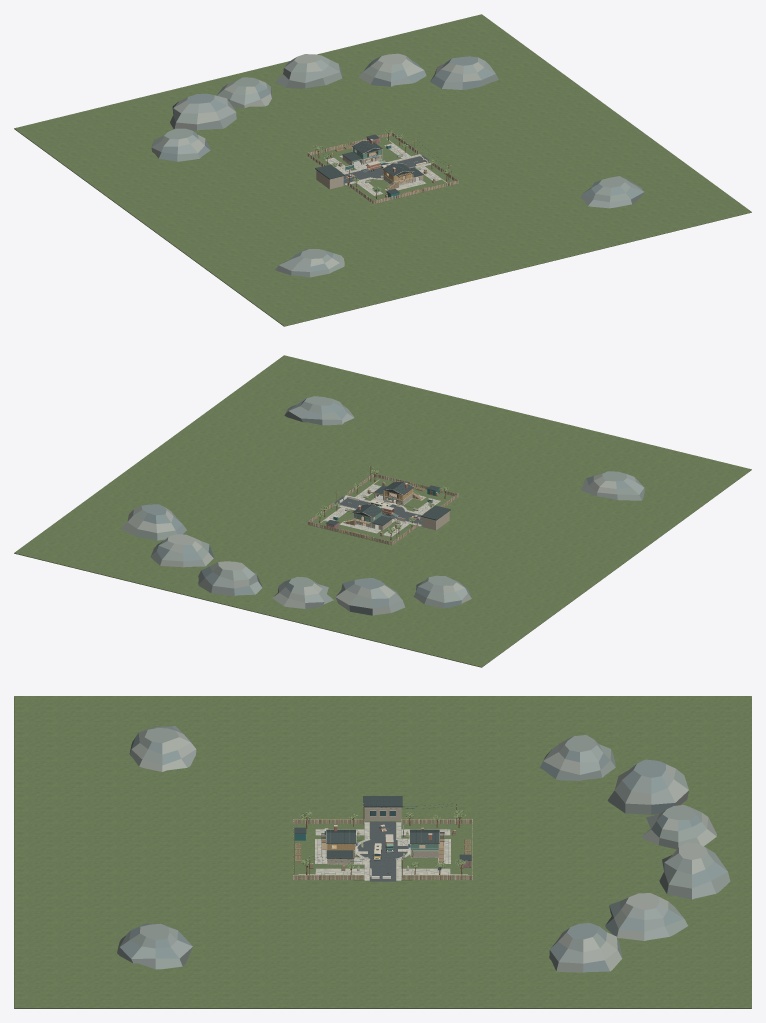
File: sunward-v2.5.glb
3 views of the same model, one above another, from view 1: azimuth 30°, elevation 25°; view 2: azimuth 150°, elevation 25°; view 3: azimuth 270°, elevation 25° (orthographic). The views are drawn at different scales.
Visible parts, largest first — view 1: 40_ContextScenery__V2_Ground_Moss, 62_V2_Context__V2_Distant_Cliff_0, 00_Ground__V2_Ground_Moss, 61_V2_Architecture__SW2_Arch_Limestone_01, 31_Boundary__wood_light, 00_Ground__V2_Road; view 2: 40_ContextScenery__V2_Ground_Moss, 62_V2_Context__V2_Distant_Cliff_0, 00_Ground__V2_Ground_Moss, 61_V2_Architecture__SW2_Arch_Limestone_01, 31_Boundary__wood_light; view 3: 40_ContextScenery__V2_Ground_Moss, 62_V2_Context__V2_Distant_Cliff_0, 00_Ground__V2_Ground_Moss, 61_V2_Architecture__SW2_Arch_Limestone_01, 00_Ground__V2_Road, 31_Boundary__wood_light, 60_V2_Foliage__V2_Leaf_DeepOlive, 31_Boundary__chalk.
Boxes of the visible parts, bbox=[...] form: 40_ContextScenery__V2_Ground_Moss: bbox=[14, 14, 751, 326]; 62_V2_Context__V2_Distant_Cliff_0: bbox=[151, 53, 644, 277]; 00_Ground__V2_Ground_Moss: bbox=[312, 136, 455, 203]; 61_V2_Architecture__SW2_Arch_Limestone_01: bbox=[325, 138, 446, 195]; 31_Boundary__wood_light: bbox=[308, 132, 457, 203]; 00_Ground__V2_Road: bbox=[343, 155, 430, 183]; 40_ContextScenery__V2_Ground_Moss: bbox=[14, 355, 751, 667]; 62_V2_Context__V2_Distant_Cliff_0: bbox=[120, 396, 644, 615]; 00_Ground__V2_Ground_Moss: bbox=[310, 477, 453, 544]; 61_V2_Architecture__SW2_Arch_Limestone_01: bbox=[319, 479, 440, 536]; 31_Boundary__wood_light: bbox=[308, 473, 457, 544]; 40_ContextScenery__V2_Ground_Moss: bbox=[14, 696, 751, 1008]; 62_V2_Context__V2_Distant_Cliff_0: bbox=[117, 726, 730, 972]; 00_Ground__V2_Ground_Moss: bbox=[293, 823, 472, 880]; 61_V2_Architecture__SW2_Arch_Limestone_01: bbox=[298, 822, 467, 880]; 00_Ground__V2_Road: bbox=[357, 821, 408, 881]; 31_Boundary__wood_light: bbox=[293, 819, 472, 879]; 60_V2_Foliage__V2_Leaf_DeepOlive: bbox=[296, 810, 470, 869]; 31_Boundary__chalk: bbox=[293, 819, 472, 879].
Size of the model in its own units: 300 by 13.78 by 300.
57 materials, 8 textured.
